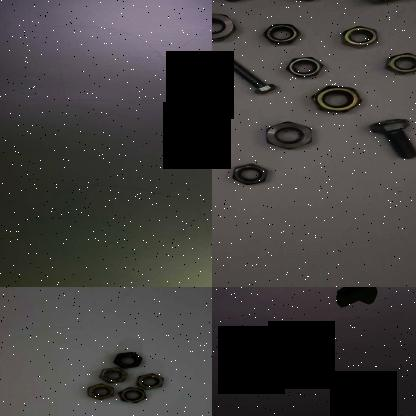Bolts: (364, 110, 416, 164), (330, 287, 377, 300), (193, 126, 212, 158)
NUTS: (255, 118, 321, 154), (311, 84, 365, 118), (219, 162, 277, 190), (338, 24, 388, 50), (277, 56, 325, 82), (258, 21, 306, 46), (379, 51, 416, 78), (212, 10, 241, 43), (107, 351, 146, 369), (133, 372, 166, 392), (82, 382, 116, 401), (116, 386, 146, 406), (97, 366, 129, 384)
